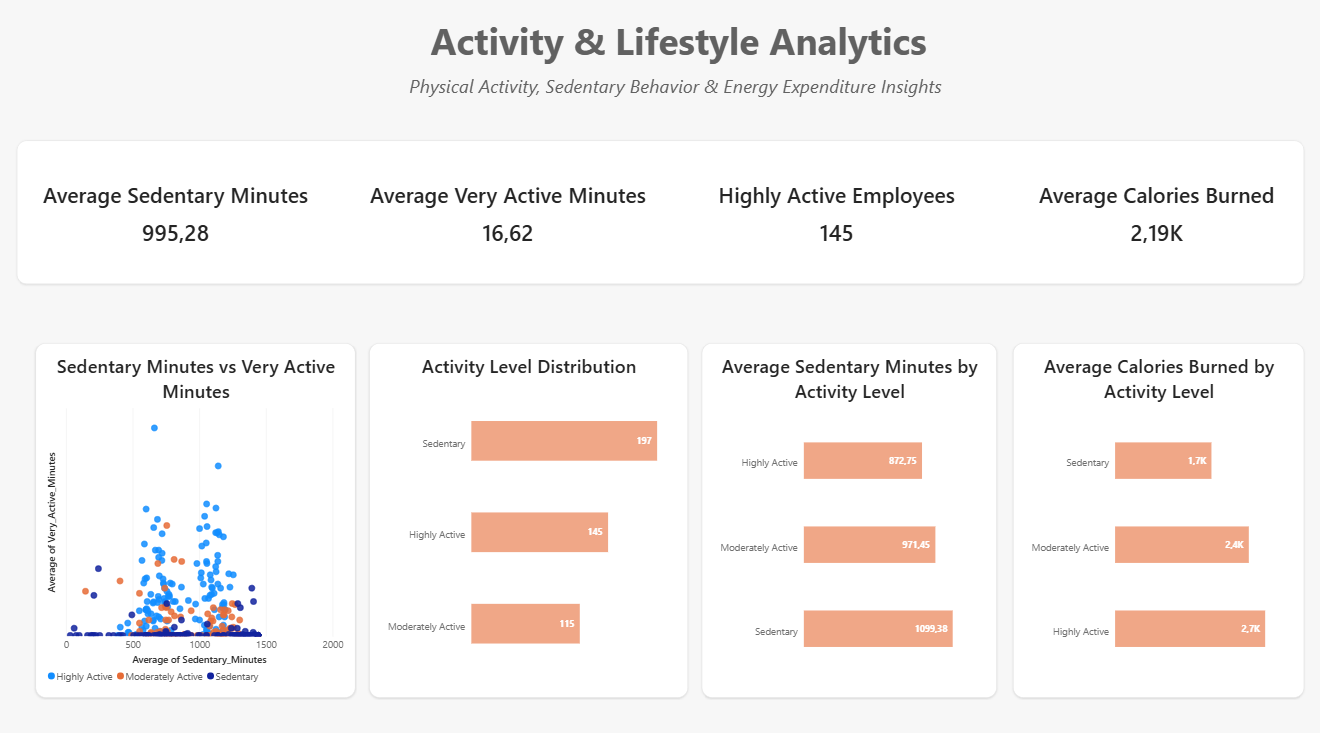

The page's visual inventory and layout, read from the dashboard file:
{"tool":"powerbi","page":{"name":"Page 3","canvas":[1920,1080],"ordinal":2},"visuals":[{"type":"shape","box":[27.1,213.5,1864,208.1],"z":0},{"type":"card","title":"Average Calories Burned","fields":{"Values":["Avg(vw_activity_analysis.Calories)"]},"box":[1483.9,257,387.3,139.3],"z":1000},{"type":"card","title":"Average Sedentary Minutes","fields":{"Values":["Avg(vw_activity_analysis.Sedentary_Minutes)"]},"box":[41.6,257,430.7,139.3],"z":2000},{"type":"card","title":"Average Very Active Minutes","fields":{"Values":["Avg(vw_activity_analysis.Very_Active_Minutes)"]},"box":[517.6,257,441.6,139.3],"z":3000},{"type":"card","title":"Highly Active Employees","fields":{"Values":["CountNonNull(vw_activity_analysis.Activity_Level)"]},"box":[1017,257,394.5,139.3],"z":4000},{"type":"barChart","title":"Activity Level Distribution","fields":{"Category":["vw_activity_analysis.Activity_Level"],"Y":["CountNonNull(vw_activity_analysis.Activity_Level)"]},"box":[537.5,506.7,461.5,513.9],"z":5000},{"type":"barChart","title":"Average Calories Burned by Activity Level","fields":{"Category":["vw_activity_analysis.Activity_Level"],"Y":["Avg(vw_activity_analysis.Calories)"]},"box":[1469.4,506.7,421.7,513.9],"z":6000},{"type":"scatterChart","title":"Sedentary Minutes vs Very Active Minutes","fields":{"Category":["vw_activity_analysis.Calories"],"Series":["vw_activity_analysis.Activity_Level"],"X":["Avg(vw_activity_analysis.Sedentary_Minutes)"],"Y":["Avg(vw_activity_analysis.Very_Active_Minutes)"]},"box":[54.3,506.7,463.3,513.9],"z":7000},{"type":"barChart","title":"Average Sedentary Minutes by Activity Level","fields":{"Category":["vw_activity_analysis.Activity_Level"],"Y":["Avg(vw_activity_analysis.Sedentary_Minutes)"]},"box":[1018.8,506.7,427.1,513.9],"z":8000},{"type":"textbox","box":[626.1,32.6,785.4,83.2],"z":9000},{"type":"textbox","box":[595.4,115.8,1236,162.9],"z":10000}]}

Visuals, with their boxes in screenshot pixels (x1, y1, x2, y2), scaled from the page's 1920x1080 canvas onto the 1320x733 screenshot:
shape: {"x1": 19, "y1": 145, "x2": 1300, "y2": 286}
"Average Calories Burned" card: {"x1": 1020, "y1": 174, "x2": 1286, "y2": 269}
"Average Sedentary Minutes" card: {"x1": 29, "y1": 174, "x2": 325, "y2": 269}
"Average Very Active Minutes" card: {"x1": 356, "y1": 174, "x2": 659, "y2": 269}
"Highly Active Employees" card: {"x1": 699, "y1": 174, "x2": 970, "y2": 269}
"Activity Level Distribution" barChart: {"x1": 370, "y1": 344, "x2": 687, "y2": 693}
"Average Calories Burned by Activity Level" barChart: {"x1": 1010, "y1": 344, "x2": 1300, "y2": 693}
"Sedentary Minutes vs Very Active Minutes" scatterChart: {"x1": 37, "y1": 344, "x2": 356, "y2": 693}
"Average Sedentary Minutes by Activity Level" barChart: {"x1": 700, "y1": 344, "x2": 994, "y2": 693}
textbox: {"x1": 430, "y1": 22, "x2": 970, "y2": 79}
textbox: {"x1": 409, "y1": 79, "x2": 1259, "y2": 189}
